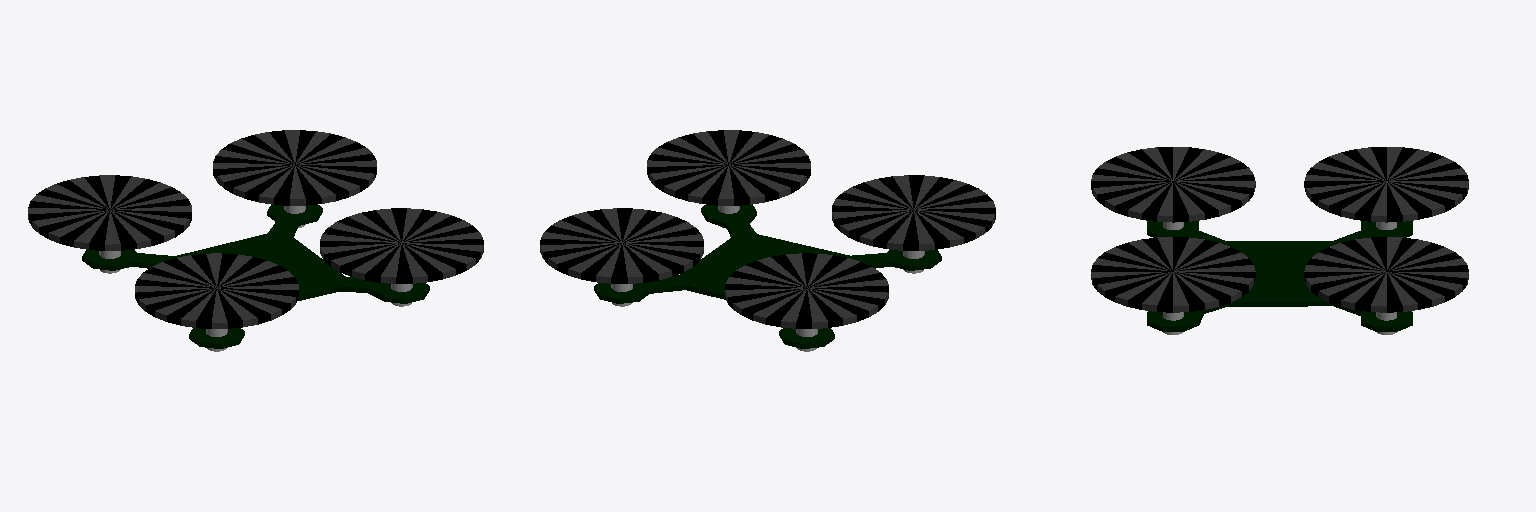
File: suzaku.obj
3 renders of one model, left to right at view 1: azimuth 30°, elevation 25°; view 2: azimuth 150°, elevation 25°; view 3: azimuth 270°, elevation 25°, orthographic.
Visible parts, largest first — view 1: Cube; view 2: Cube; view 3: Cube.
Part boxes in pixels (x1,y1,x2,y2): Cube: (28, 130, 483, 351); Cube: (540, 130, 995, 351); Cube: (1091, 147, 1468, 334).
Size of the model in its own units: 10.57 by 1.82 by 10.57.